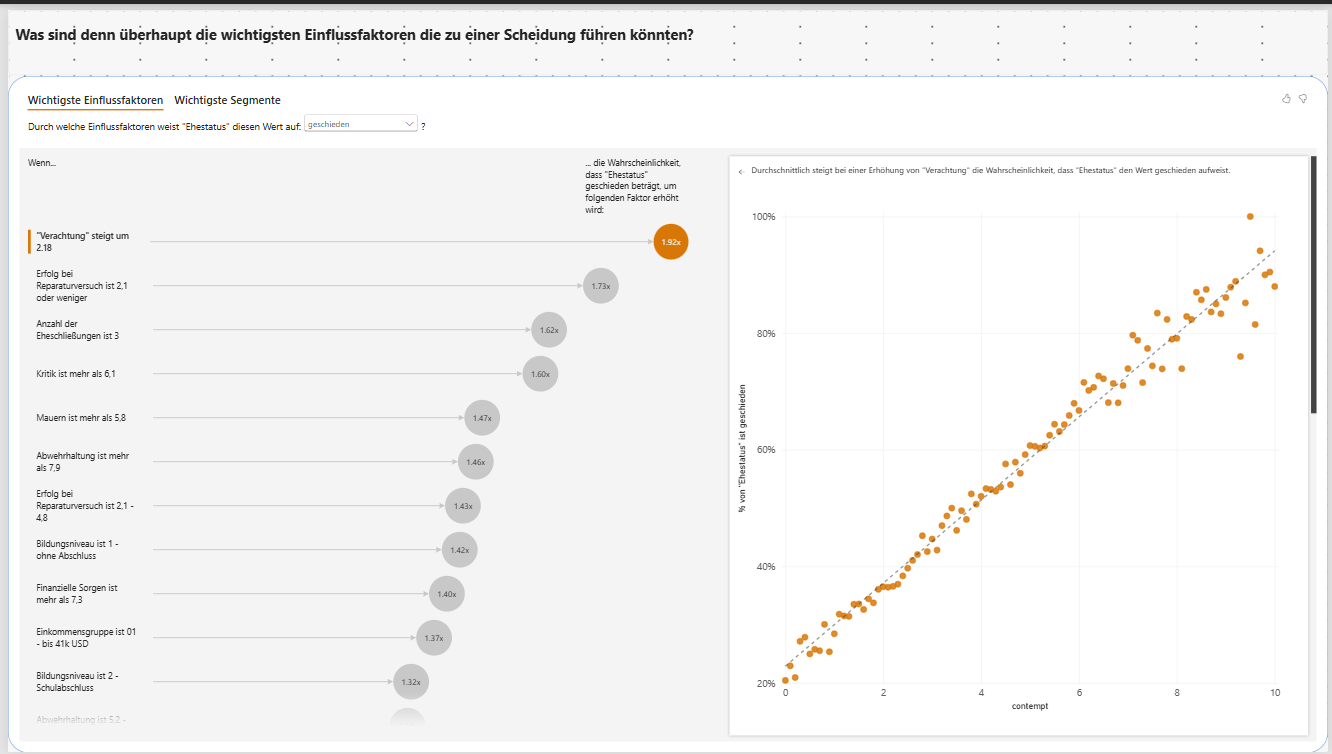

What the dashboard file says about the page in this screenshot:
{"tool":"powerbi","page":{"name":"Einflussfaktoren","canvas":[1920,1080],"ordinal":3},"visuals":[{"type":"keyDriversVisual","fields":{"ExplainBy":["Ehen.contempt","Ehen.criticism","Ehen.defensiveness","Ehen.stonewalling","Ehen.repair_attempt_success","Ehen.marriage_number","Ehen.Altersgruppe_Eheschließung","Ehen.education_level_sorted","Ehen.Einkommensgruppe","Ehen.financial_stress","Ehen.child_before_marriage_yesno","Ehen.premarital_counseling_yesno"],"Target":["Ehen.Ehestatus"]},"box":[0,94.9,1920,984.8],"z":0},{"type":"textbox","box":[0,0,1920,94.9],"z":1000}]}

Visuals, with their boxes in screenshot pixels (x1, y1, x2, y2), scaled from the page's 1920x1080 canvas onto the 1332x754 screenshot:
keyDriversVisual - Ehen.contempt x Ehen.criticism: bbox=(0, 66, 1331, 753)
textbox: bbox=(0, 0, 1331, 66)
